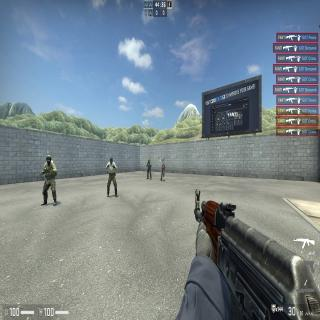CT-Body: (42, 156, 56, 204), (147, 159, 151, 179)
CT-Head: (46, 154, 51, 164), (148, 159, 150, 162)
T-Body: (106, 156, 116, 198)
T-Head: (110, 157, 114, 165)
